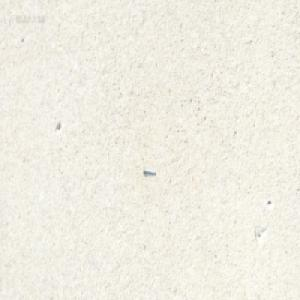Nail: (142, 167, 155, 176)
